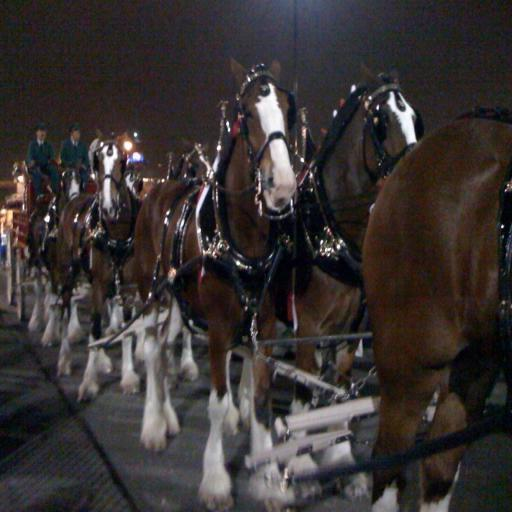horse: (24, 54, 512, 512)
